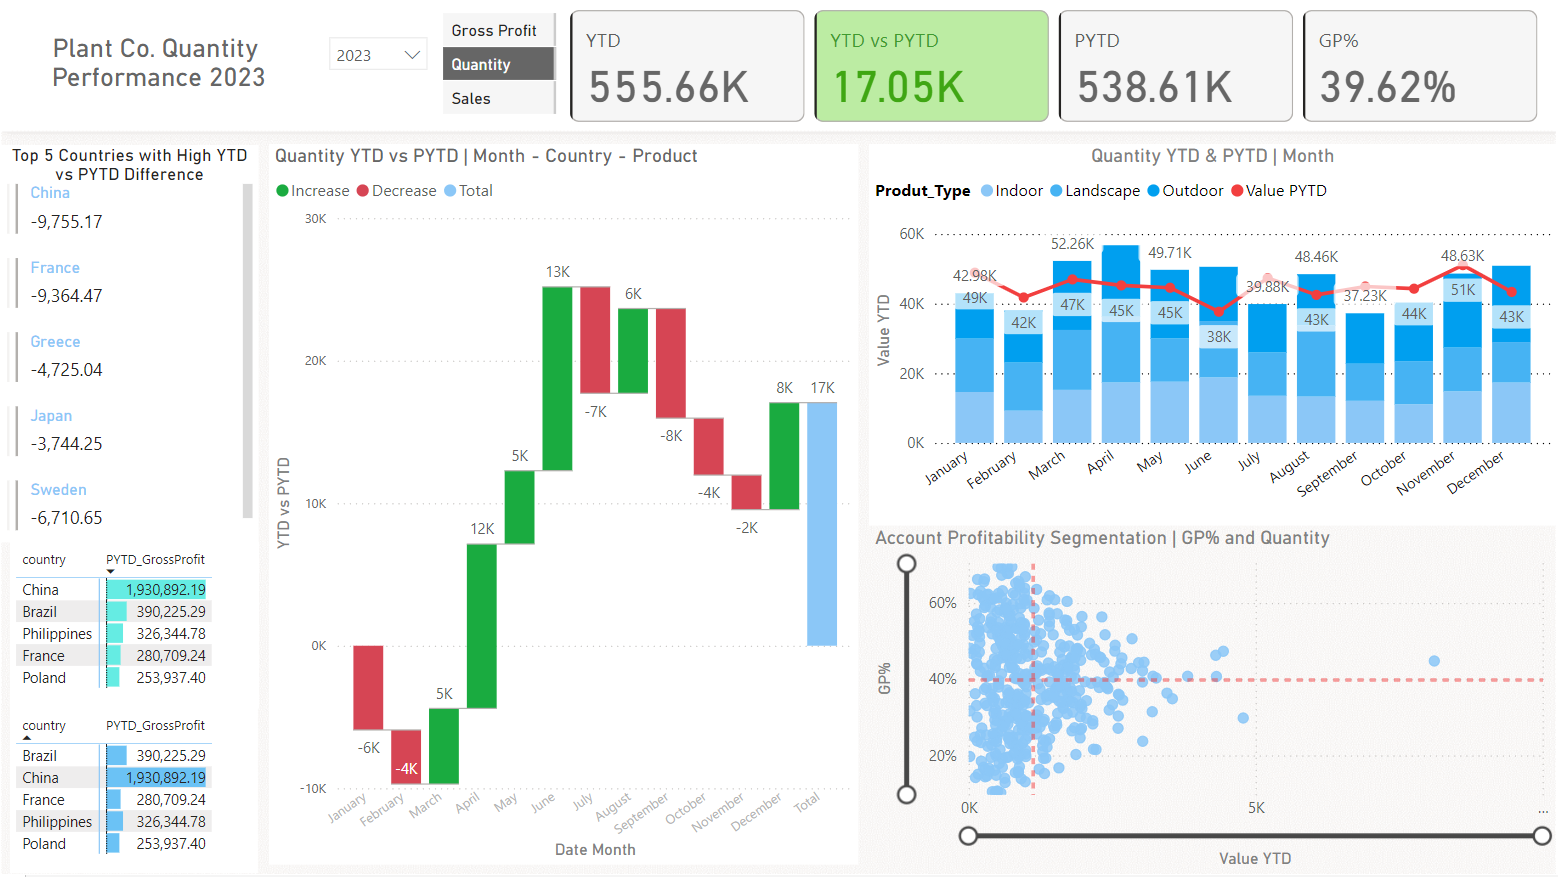

The dashboard page shown, as its layout file describes it:
{"tool":"powerbi","page":{"name":"Performance Report","canvas":[1280,720],"ordinal":0},"visuals":[{"type":"cardVisual","fields":{"Data":["_Measures.S_YTD","_Measures.YTD vs PYTD","_Measures.S_PYTD","_Measures.GP%"]},"box":[463,4.2,806.2,102.1],"z":0},{"type":"advancedSlicerVisual","fields":{"Values":["Slc_Values.Values"]},"box":[359.1,6.2,103.7,94],"z":1000},{"type":"slicer","fields":{"Values":["Dim_Date.Date.Variation.Date Hierarchy.Year"]},"box":[259.8,21.3,101.1,49.7],"z":2000},{"type":"waterfallChart","fields":{"Y":["_Measures.YTD vs PYTD"],"Category":["Dim_Date.Date.Variation.Date Hierarchy.Month","Dim_Account.country","Dim_Product.Produt_Type","Dim_Product.Product_Name"]},"box":[220.3,119.6,485.2,593.5],"z":4000},{"type":"lineStackedColumnComboChart","fields":{"Y":["_Measures.S_YTD"],"Y2":["_Measures.S_PYTD"],"Category":["Dim_Date.Date.Variation.Date Hierarchy.Quarter","Dim_Date.Date.Variation.Date Hierarchy.Month"],"Series":["Dim_Product.Produt_Type"]},"box":[714.1,119.6,565.9,314.3],"z":5000},{"type":"scatterChart","fields":{"Y":["_Measures.GP%"],"X":["_Measures.S_YTD"],"Category":["Dim_Account.Account"]},"box":[714.1,433.9,565.9,285.8],"z":6000},{"type":"card","fields":{"Values":["_Measures._Report title"]},"box":[0,4.4,259.8,95.8],"z":7000},{"type":"multiRowCard","title":"Top 5 Countries with High YTD vs PYTD Difference","fields":{"Values":["Dim_Account.country","_Measures.Top 3 Negative Difference"]},"box":[0,120.2,211.6,326.7],"z":9000},{"type":"pivotTable","title":"Bottom 10 YTD vs PYTD | Country","fields":{"Rows":["Dim_Account.country"],"Values":["_Measures.PYTD_GrossProfit"]},"box":[7.1,446.9,204.8,136.6],"z":10000},{"type":"pivotTable","title":"Bottom 10 YTD vs PYTD | Country","fields":{"Rows":["Dim_Account.country"],"Values":["_Measures.PYTD_GrossProfit"]},"box":[7.2,583.5,204.4,135.6],"z":10001}]}

Visuals, with their boxes in screenshot pixels (x1, y1, x2, y2), scaled from the page's 1280x720 canvas onto the 1558x877 screenshot:
cardVisual - _Measures.S_YTD x _Measures.YTD vs PYTD: BBox(564, 5, 1545, 129)
advancedSlicerVisual - Slc_Values.Values: BBox(437, 8, 563, 122)
slicer - Dim_Date.Date.Variation.Date Hierarchy.Year: BBox(316, 26, 439, 86)
waterfallChart - _Measures.YTD vs PYTD x Dim_Date.Date.Variation.Date Hierarchy.Month: BBox(268, 146, 859, 869)
lineStackedColumnComboChart - _Measures.S_YTD x _Measures.S_PYTD: BBox(869, 146, 1557, 529)
scatterChart - _Measures.GP% x _Measures.S_YTD: BBox(869, 529, 1557, 876)
card - _Measures._Report title: BBox(0, 5, 316, 122)
"Top 5 Countries with High YTD vs PYTD Difference" multiRowCard: BBox(0, 146, 258, 544)
"Bottom 10 YTD vs PYTD | Country" pivotTable: BBox(9, 544, 258, 711)
"Bottom 10 YTD vs PYTD | Country" pivotTable: BBox(9, 711, 258, 876)
